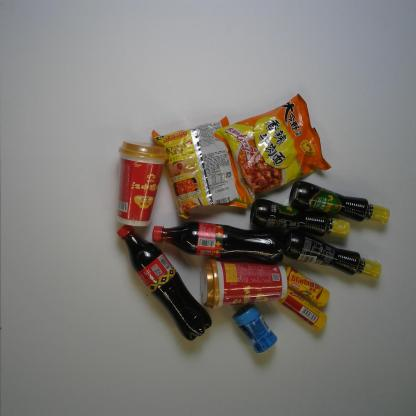Candy: (278, 264, 334, 312), (279, 288, 330, 332)
Drink: (115, 219, 210, 344), (142, 216, 288, 266)
Gum: (226, 300, 286, 356)
Instant Drink: (113, 132, 166, 226), (200, 254, 290, 309)
Instant Noodles: (215, 95, 332, 201), (150, 114, 253, 219)
Seasoner: (284, 176, 394, 230), (283, 230, 383, 282), (249, 200, 350, 245)
